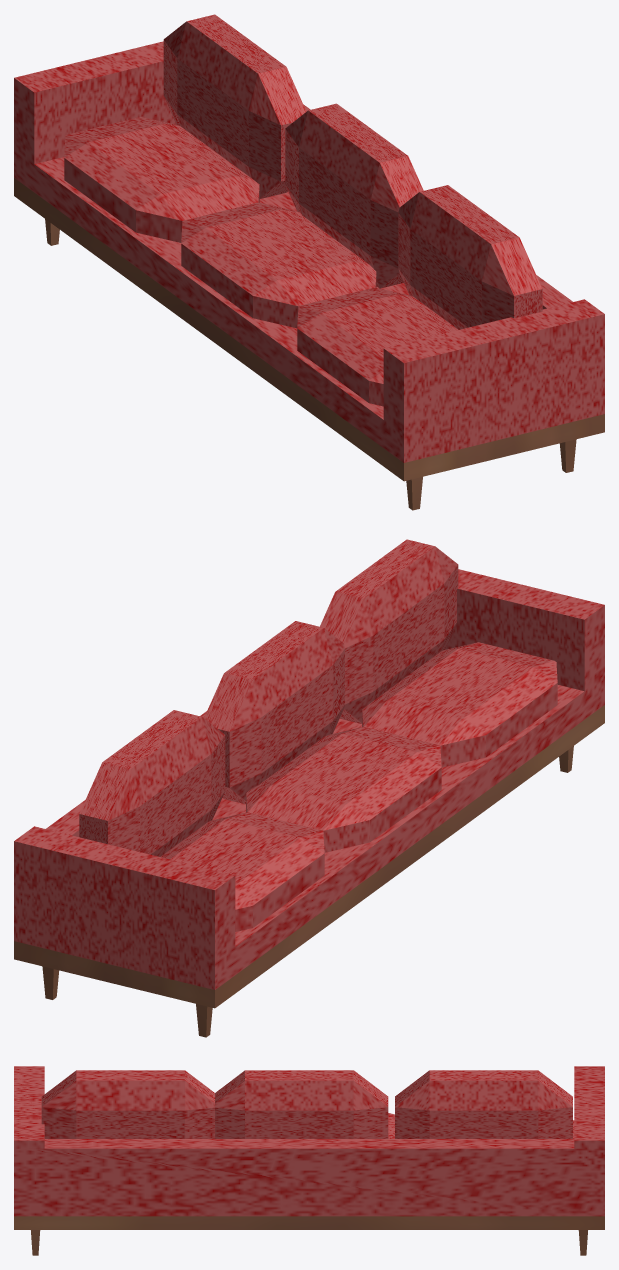
Rendered from CouchLarge.fbx.
The picture shows the model from 3 angles, top to bottom: view 1: azimuth 30°, elevation 25°; view 2: azimuth 150°, elevation 25°; view 3: azimuth 270°, elevation 25°; orthographic projection. The views are drawn at different scales.
Parts seen in each view (by area): view 1: CouchLarge; view 2: CouchLarge; view 3: CouchLarge.
Boxes of the visible parts, <box> form: CouchLarge: <box>14,14,604,510</box>; CouchLarge: <box>14,539,604,1037</box>; CouchLarge: <box>14,1066,604,1255</box>.
Size of the model in its own units: 123 by 128 by 414.
